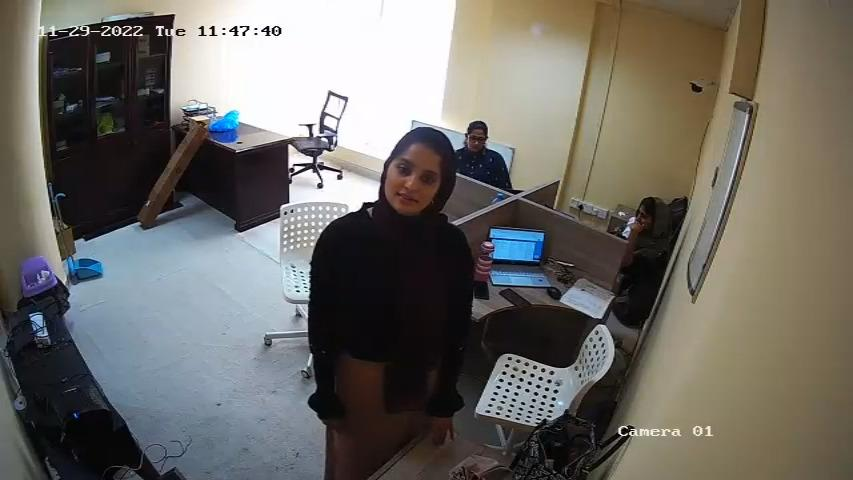no_apron: (328, 226, 452, 395)
